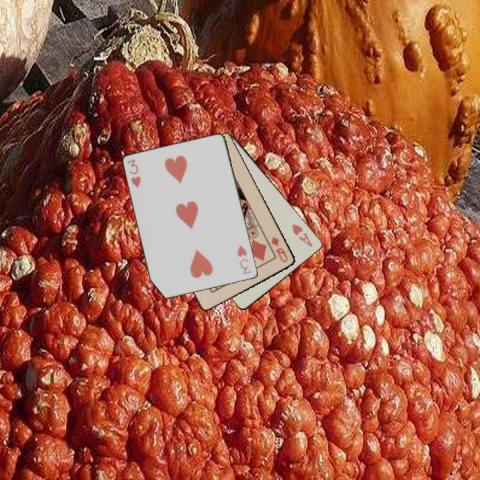3h: (235, 242, 253, 275), (125, 157, 142, 189)
Ah: (289, 220, 314, 248)
Qd: (268, 234, 289, 264)
